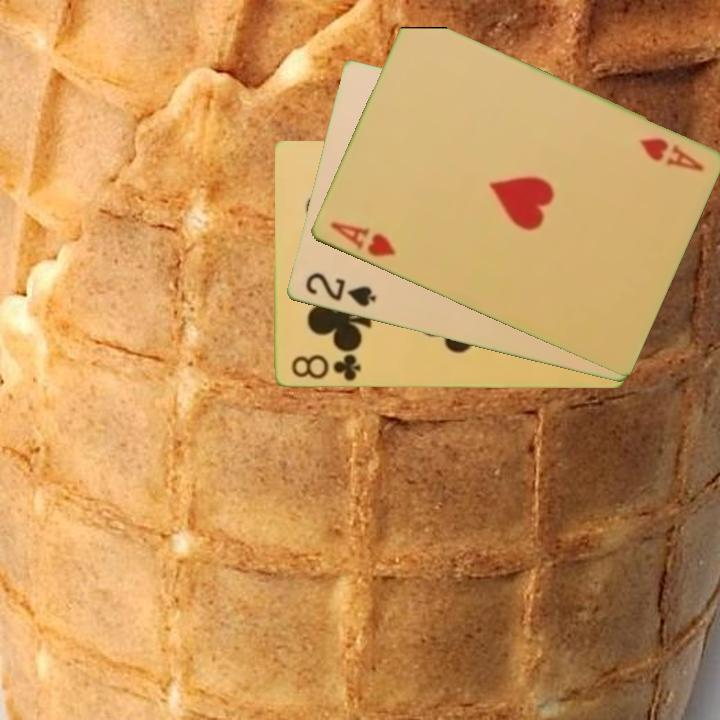2s: (301, 269, 379, 310)
8c: (287, 351, 363, 384)
Ah: (326, 218, 398, 260), (634, 134, 707, 175)
